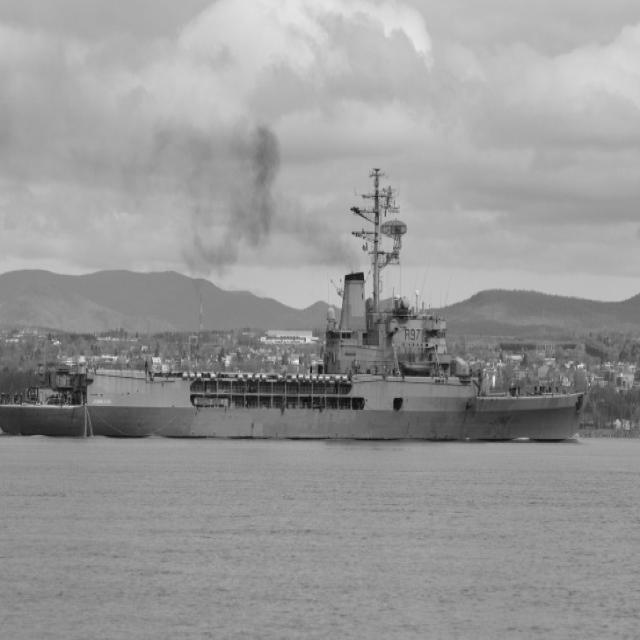Portanaves: (1, 162, 592, 448)
